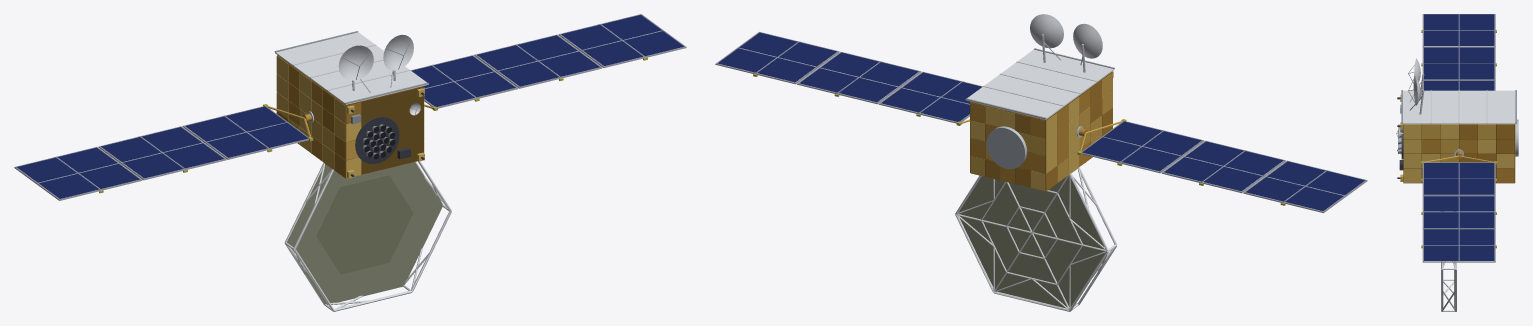
The model's file is beidou-3-igso.glb.
3 renders of one model, left to right at view 1: azimuth 30°, elevation 25°; view 2: azimuth 150°, elevation 25°; view 3: azimuth 270°, elevation 25°, orthographic. The views are drawn at different scales.
Parts seen in each view (by area): view 1: solar-panel, body, foil; view 2: solar-panel, body, foil; view 3: solar-panel, foil, body.
Boxes of the visible parts, <box> form: solar-panel: <box>17,15,683,198</box>; body: <box>14,14,686,311</box>; foil: <box>263,55,437,178</box>; solar-panel: <box>718,32,1364,210</box>; body: <box>715,14,1367,311</box>; foil: <box>956,71,1126,191</box>; solar-panel: <box>1401,14,1516,260</box>; foil: <box>1398,94,1515,183</box>; body: <box>1396,14,1518,311</box>.
Bounding box in the file's own units: 18.92 × 7.97 × 3.95.
